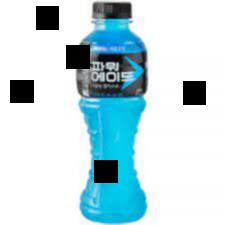powerade_mountainblast: (76, 1, 153, 224)
